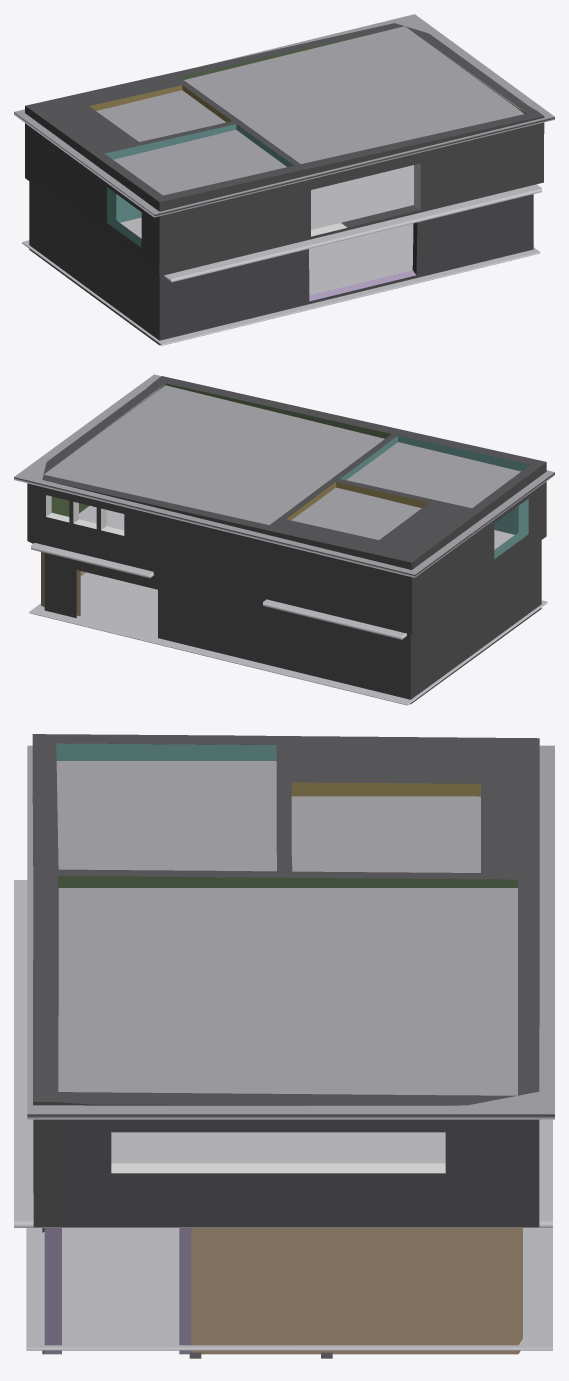
File: updated walls.fbx
3 views of the same model, one above another, from view 1: azimuth 30°, elevation 25°; view 2: azimuth 150°, elevation 25°; view 3: azimuth 270°, elevation 25° (orthographic). The views are drawn at different scales.
Parts seen in each view (by area): view 1: Cube.020, Cube.318, Cube.014, Cube.016, ^0A6FB32C8DC72FF21F137A84B2B04C22FA8228053090CCF372^pimgpsh_, Cube.017, polySurface170; view 2: Cube.318, Cube.020, Cube.014, ^0A6FB32C8DC72FF21F137A84B2B04C22FA8228053090CCF372^pimgpsh_, Cube.017, Cube.016, polySurface170; view 3: Cube.020, Cube.318, polySurface170, ^0A6FB32C8DC72FF21F137A84B2B04C22FA8228053090CCF372^pimgpsh_, Cube.016, Cube.017.
Part boxes in pixels (bbox=[...]): Cube.020: bbox=[14, 14, 554, 217]; Cube.318: bbox=[25, 23, 544, 276]; Cube.014: bbox=[29, 181, 533, 345]; Cube.016: bbox=[120, 165, 541, 282]; ^0A6FB32C8DC72FF21F137A84B2B04C22FA8228053090CCF372^pimgpsh_: bbox=[22, 223, 540, 345]; Cube.017: bbox=[89, 27, 526, 247]; polySurface170: bbox=[309, 270, 415, 301]; Cube.318: bbox=[27, 376, 546, 634]; Cube.020: bbox=[14, 374, 554, 577]; Cube.014: bbox=[44, 540, 541, 704]; ^0A6FB32C8DC72FF21F137A84B2B04C22FA8228053090CCF372^pimgpsh_: bbox=[29, 572, 547, 705]; Cube.017: bbox=[46, 383, 530, 558]; Cube.016: bbox=[31, 506, 514, 639]; polySurface170: bbox=[41, 552, 85, 616]; Cube.020: bbox=[27, 745, 554, 1119]; Cube.318: bbox=[32, 734, 539, 1227]; polySurface170: bbox=[44, 1228, 522, 1354]; ^0A6FB32C8DC72FF21F137A84B2B04C22FA8228053090CCF372^pimgpsh_: bbox=[26, 1228, 552, 1350]; Cube.016: bbox=[14, 880, 552, 1227]; Cube.017: bbox=[56, 743, 517, 1173].
Bounding box in the file's own units: 137 × 49.78 × 84.83.
